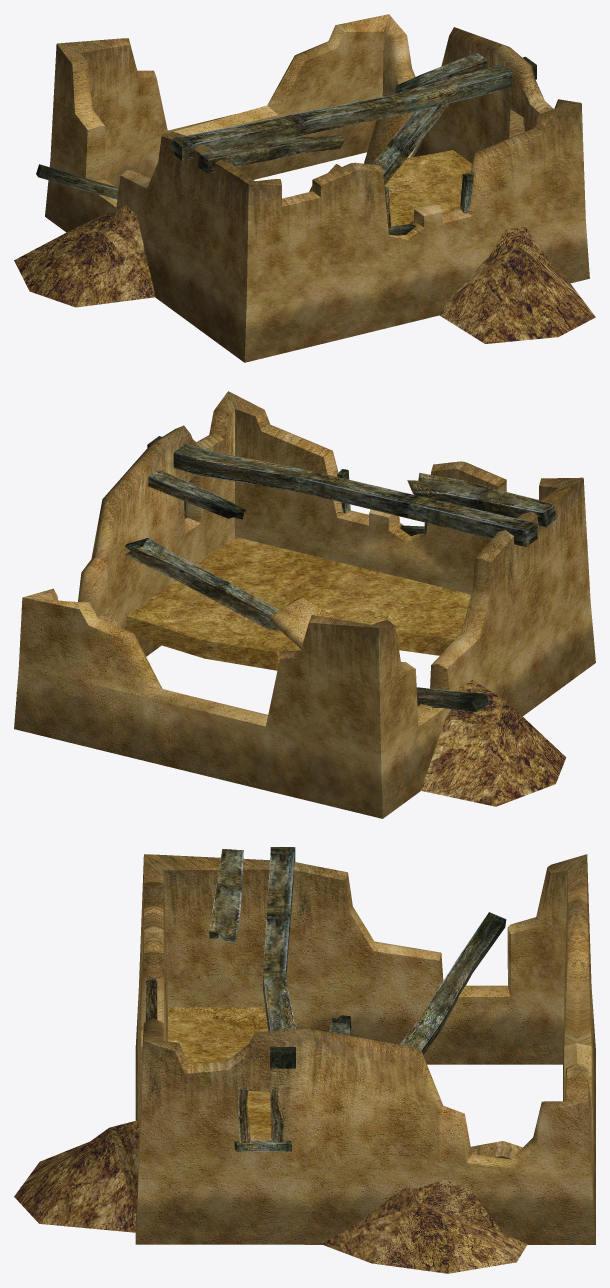
3 views of the same model, one above another, from view 1: azimuth 30°, elevation 25°; view 2: azimuth 150°, elevation 25°; view 3: azimuth 270°, elevation 25° (orthographic). The views are drawn at different scales.
Visible parts, largest first — view 1: hr_rn3; view 2: hr_rn3; view 3: hr_rn3.
Part boxes in pixels (<box>): hr_rn3: <box>14,14,595,362</box>; hr_rn3: <box>14,391,595,818</box>; hr_rn3: <box>14,847,595,1273</box>.
Size of the model in its own units: 13.16 by 4.72 by 11.82.
Materials: 8 (8 with a texture image).
